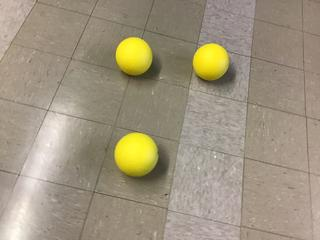power_cell: (113, 129, 161, 177), (114, 34, 155, 77), (191, 42, 230, 83)
